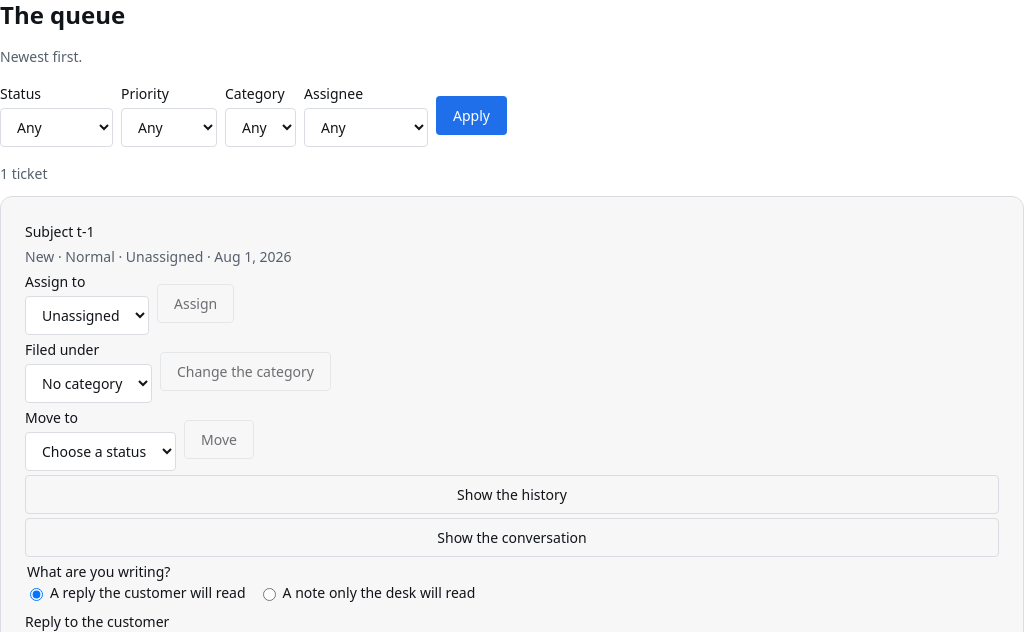
it: resolving with a note sends it, and the note is readable afterwards
The width and height of the screenshot is (1024, 632).
Check: the text "Subject t-1" is shown, box [25, 222, 94, 241]
Select "Resolved" in the dropdown labelled "Move to" at (100, 452), box [25, 432, 176, 471]
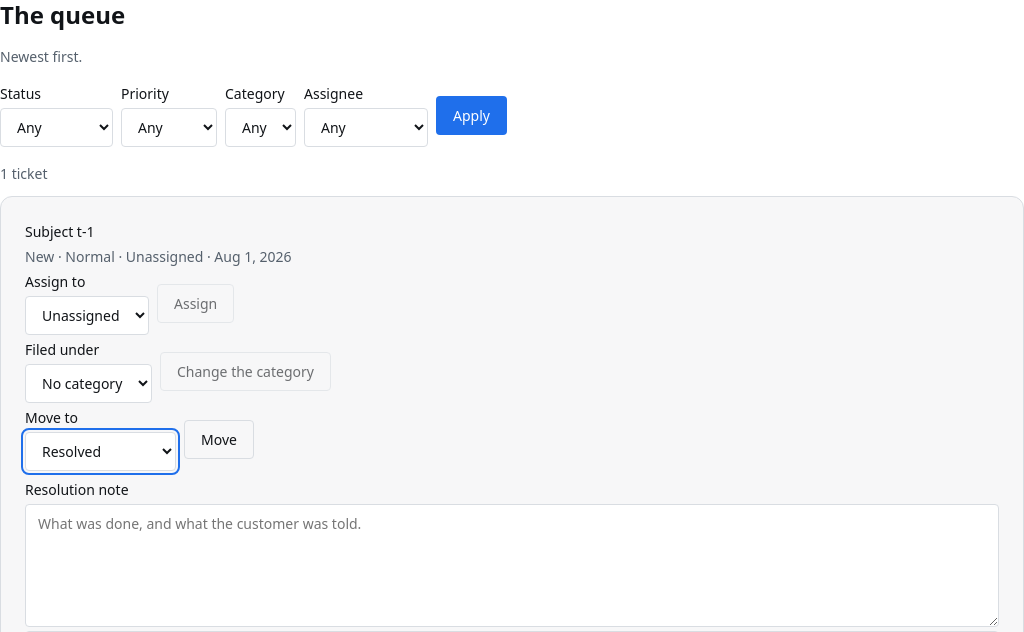
Type "Replaced the cable." into the text box labelled "Resolution note" at (512, 566), box [25, 504, 999, 627]
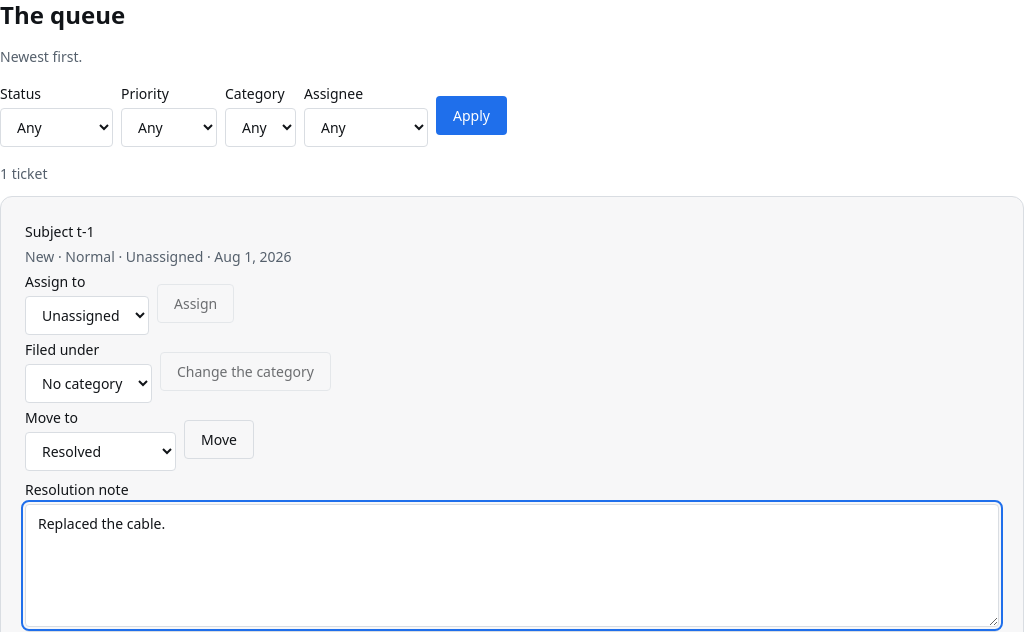
Click the button "Move" at (219, 439), box [184, 420, 254, 458]
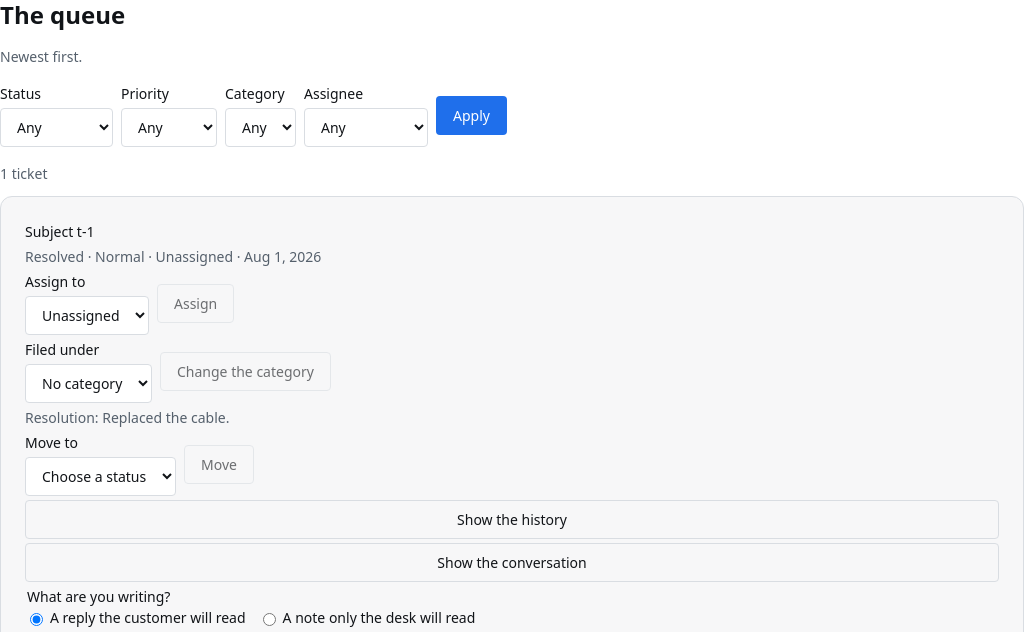
Check: the text "Resolution: Replaced the cable." is shown, box [25, 408, 230, 427]
